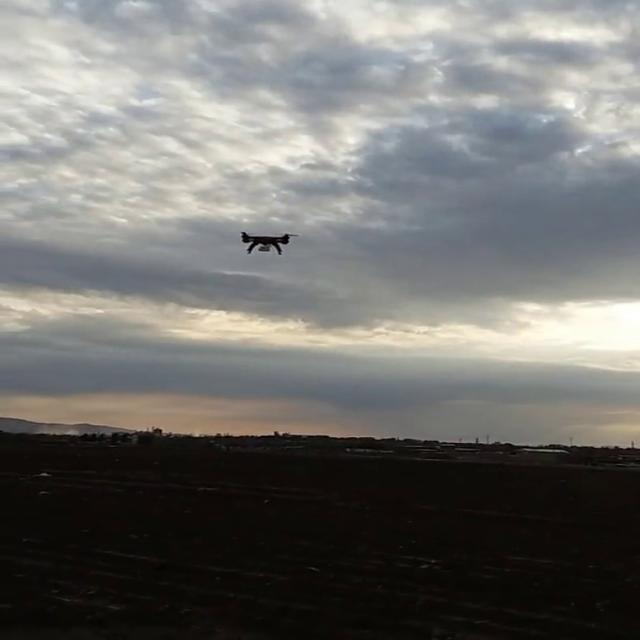drone: (230, 227, 304, 259)
